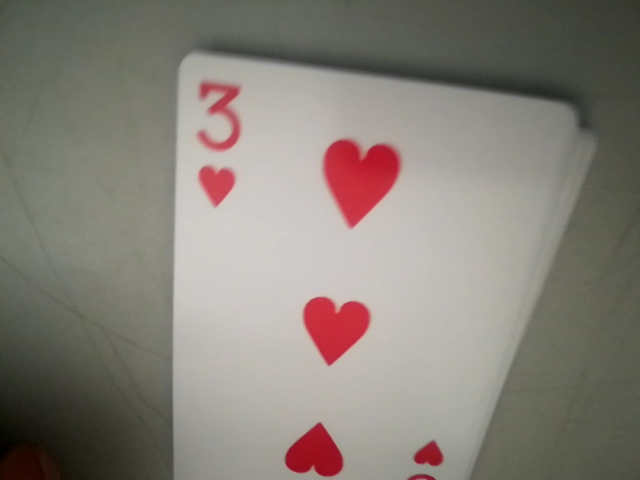hx 3: (192, 79, 242, 209)
